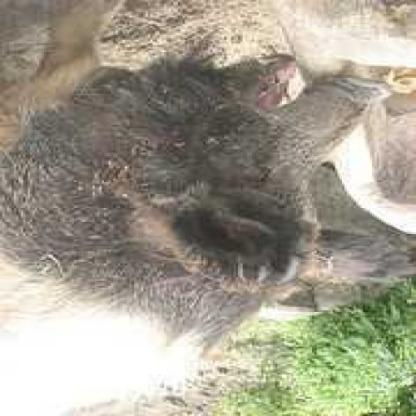boar: (0, 36, 379, 416)
